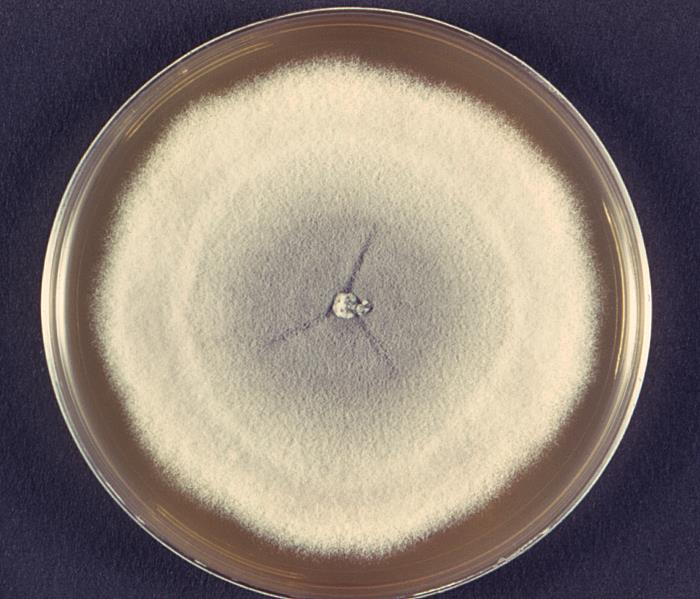Acremonium: (152, 112, 531, 499)
